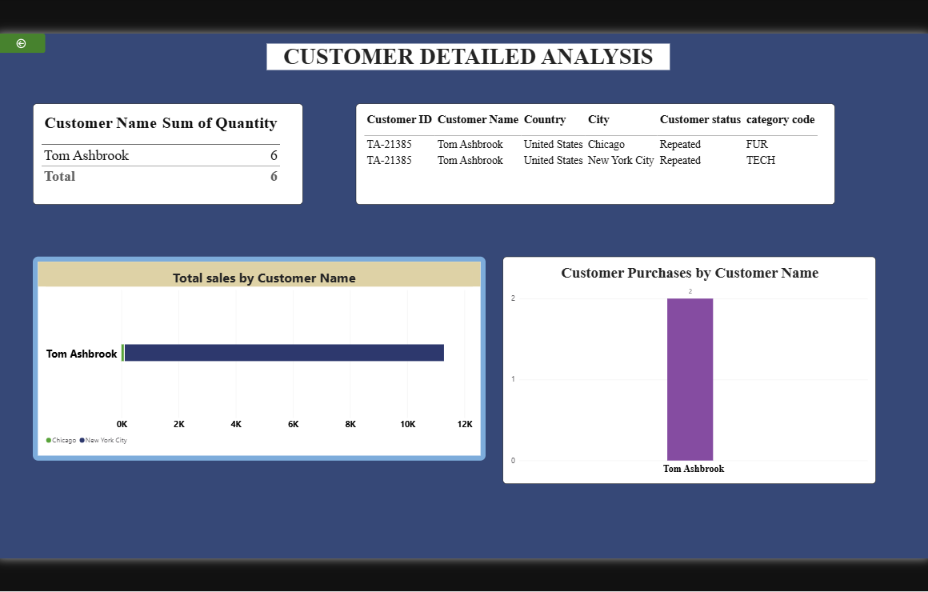

The page's visual inventory and layout, read from the dashboard file:
{"tool":"powerbi","page":{"name":"Customer Detailed Analysis","canvas":[1920,1080],"ordinal":6},"visuals":[{"type":"actionButton","box":[0,0,100,40],"z":0},{"type":"barChart","title":"Total sales by Customer Name ","fields":{"Category":["Data.Customer Name"],"Y":["Data.Total sales"],"Series":["Data.City"]},"box":[74,458,932,420],"z":1000},{"type":"textbox","title":"CUSTOMER DETAILED ANALYSIS","box":[555.7,20.6,829.5,123.5],"z":2000},{"type":"tableEx","fields":{"Values":["Data.Customer Name","Sum(Data.Quantity)"]},"box":[74,144,556,208],"z":3000},{"type":"tableEx","fields":{"Values":["Data.Customer ID","Data.Customer Name","Data.Country","Data.City","Data.Customer status","Data.category code"]},"box":[738,144,986,208],"z":4000},{"type":"columnChart","fields":{"Category":["Data.Customer Name"],"Y":["Data.Customer Purchases"]},"box":[1042,458,768,468],"z":5000}]}

Visuals, with their boxes on the page's 1920x1080 design canvas (x1, y1, x2, y2). These are canvas units, not pixel positions in the 928x592 screenshot, which may show the page scaled, cropped or inside an application window:
actionButton: bbox=(0, 0, 100, 40)
"Total sales by Customer Name " barChart: bbox=(74, 458, 1006, 878)
"CUSTOMER DETAILED ANALYSIS" textbox: bbox=(556, 21, 1385, 144)
tableEx - Data.Customer Name x Sum(Data.Quantity): bbox=(74, 144, 630, 352)
tableEx - Data.Customer ID x Data.Customer Name: bbox=(738, 144, 1724, 352)
columnChart - Data.Customer Name x Data.Customer Purchases: bbox=(1042, 458, 1810, 926)
